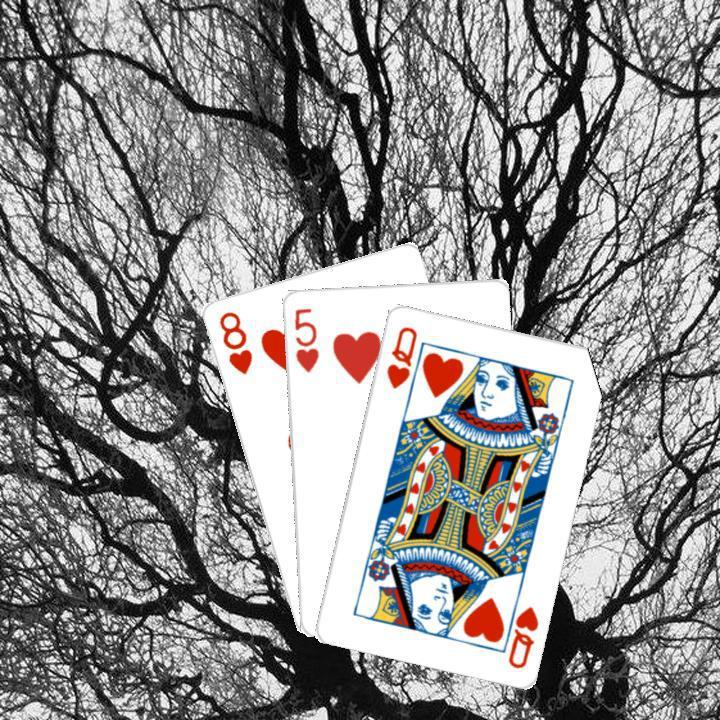5: (289, 303, 320, 374)
8: (214, 307, 254, 377)
Q: (496, 589, 540, 670), (381, 321, 419, 390)
